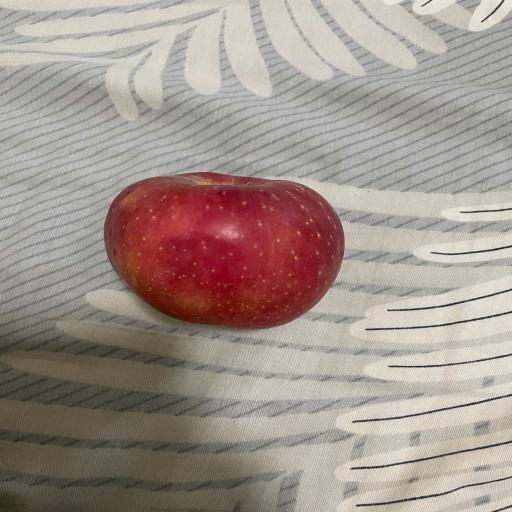apple: (104, 172, 344, 329)
